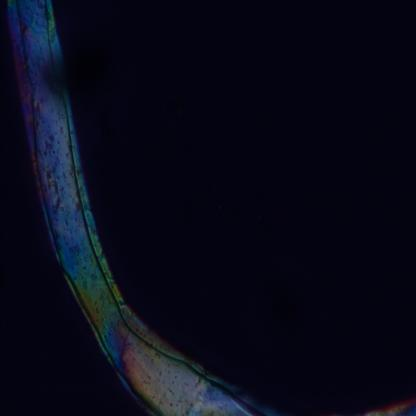Microfibre: (4, 0, 271, 416), (366, 387, 416, 416)
